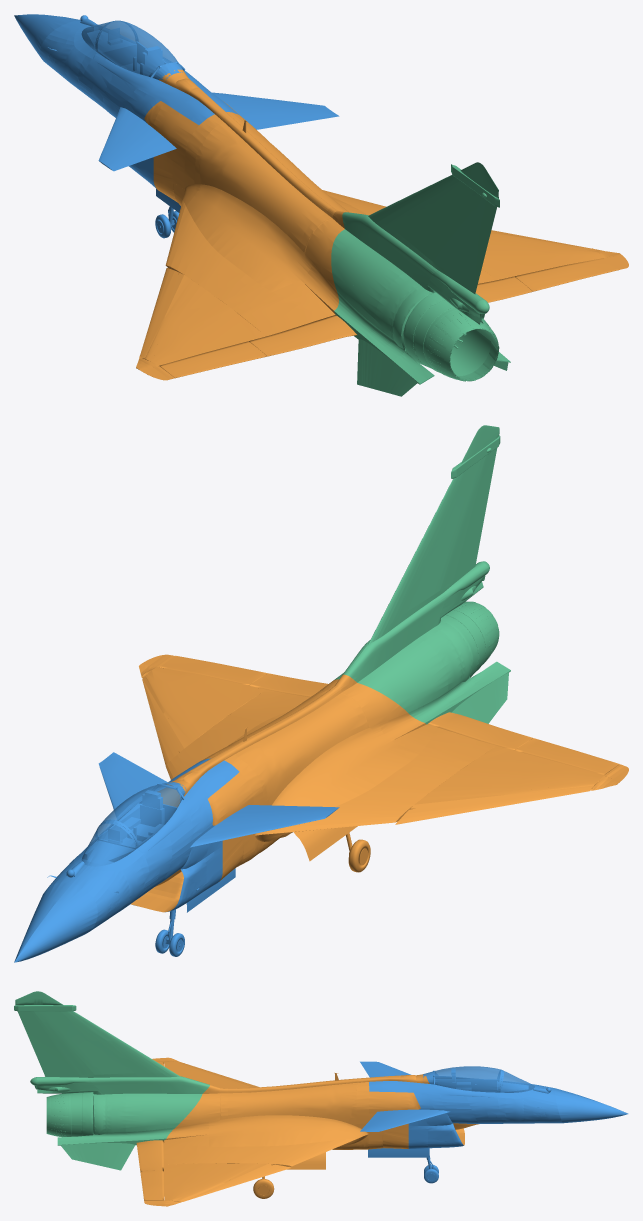
The model's file is j10c-workzones.glb.
The picture shows the model from 3 angles, top to bottom: view 1: azimuth 30°, elevation 25°; view 2: azimuth 150°, elevation 25°; view 3: azimuth 270°, elevation 25°; orthographic projection. The views are drawn at different scales.
Parts seen in each view (by area): view 1: fuselage_mid, wing_L_fixed, fuselage_tail, fuselage_nose, fin, wing_R_fixed, canopy_glass, canard_L_skin, canard_R_skin, rudder_skin, elevon_L_inner_skin, ventral_fin_L (+13 smaller); view 2: fuselage_mid, wing_L_fixed, fuselage_tail, fuselage_nose, wing_R_fixed, fin, radome, canard_L_skin, canopy_glass, canard_R_skin, rudder_skin, leading_edge_flap_L_inner_skin (+14 smaller); view 3: fuselage_mid, fuselage_tail, fuselage_nose, wing_R_fixed, fin, rudder_skin, canopy_glass, radome, ventral_fin_R, canard_R_skin, fin_tip_and_tail_fittings, wing_L_fixed (+12 smaller).
Boxes of the visible parts, x1,y1,x2,y2 form: fuselage_mid: (144, 69, 367, 313); wing_L_fixed: (152, 205, 335, 366); fuselage_tail: (331, 212, 510, 384); fuselage_nose: (40, 20, 238, 188); fin: (368, 175, 484, 275); wing_R_fixed: (322, 190, 605, 283); canopy_glass: (97, 20, 178, 76); canard_L_skin: (98, 107, 176, 171); canard_R_skin: (212, 92, 339, 129); rudder_skin: (447, 199, 496, 294); elevon_L_inner_skin: (249, 315, 356, 356); ventral_fin_L: (357, 339, 417, 396); fuselage_mid: (157, 674, 425, 881); wing_L_fixed: (287, 724, 605, 831); fuselage_tail: (334, 562, 510, 724); fuselage_nose: (47, 758, 239, 931); wing_R_fixed: (142, 667, 309, 769); fin: (368, 455, 487, 644); radome: (14, 882, 97, 962); canard_L_skin: (190, 805, 339, 847); canopy_glass: (98, 783, 180, 846); canard_R_skin: (98, 752, 167, 809); rudder_skin: (452, 448, 497, 584); leading_edge_flap_L_inner_skin: (331, 799, 471, 828); fuselage_mid: (164, 1074, 429, 1149); fuselage_tail: (37, 1076, 209, 1145); fuselage_nose: (369, 1069, 562, 1148); wing_R_fixed: (164, 1134, 347, 1200); fin: (31, 1011, 180, 1077); rudder_skin: (17, 1011, 77, 1077); canopy_glass: (433, 1066, 500, 1092); radome: (555, 1088, 628, 1123); ventral_fin_R: (60, 1143, 135, 1170); canard_R_skin: (360, 1109, 449, 1131); fin_tip_and_tail_fittings: (14, 991, 76, 1091); wing_L_fixed: (164, 1061, 253, 1088).
Bounding box in the file's own units: 9.73 × 5.8 × 17.05.
